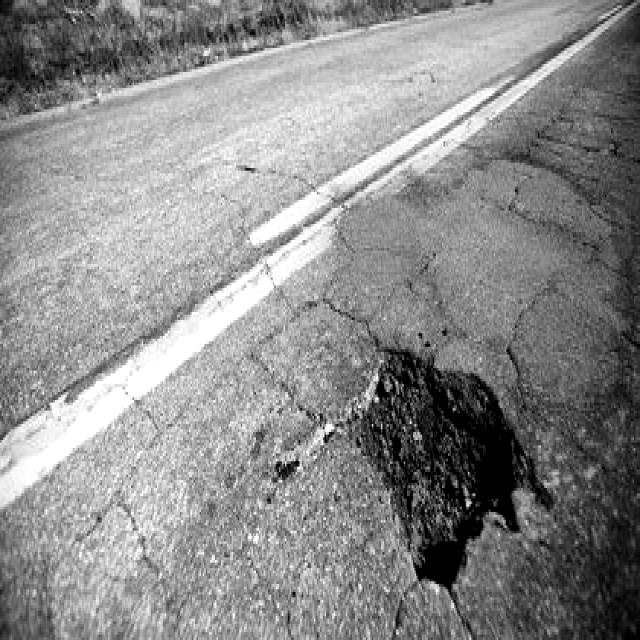pathole: (304, 306, 575, 622)
